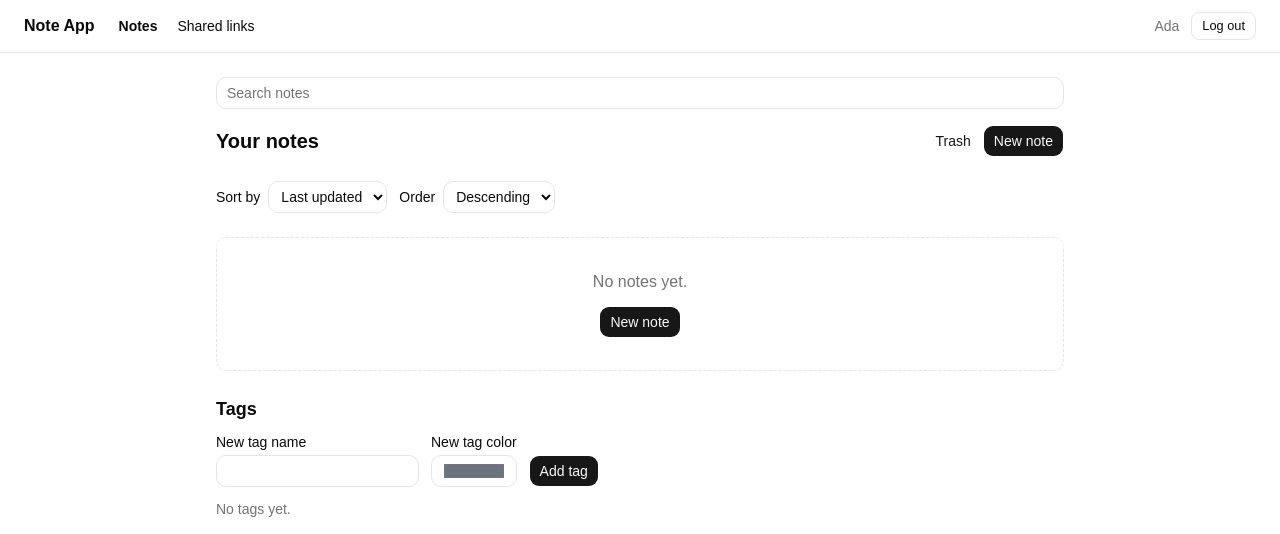
search section › S-AB1013-05: a 400 or 500 shows an error state with retry and operator text is sent plain
The width and height of the screenshot is (1280, 534).
Type "a & !(b:*)" into the search field labelled "Search notes" at (640,93), box [216,77,1064,109]
Wait 300 ms
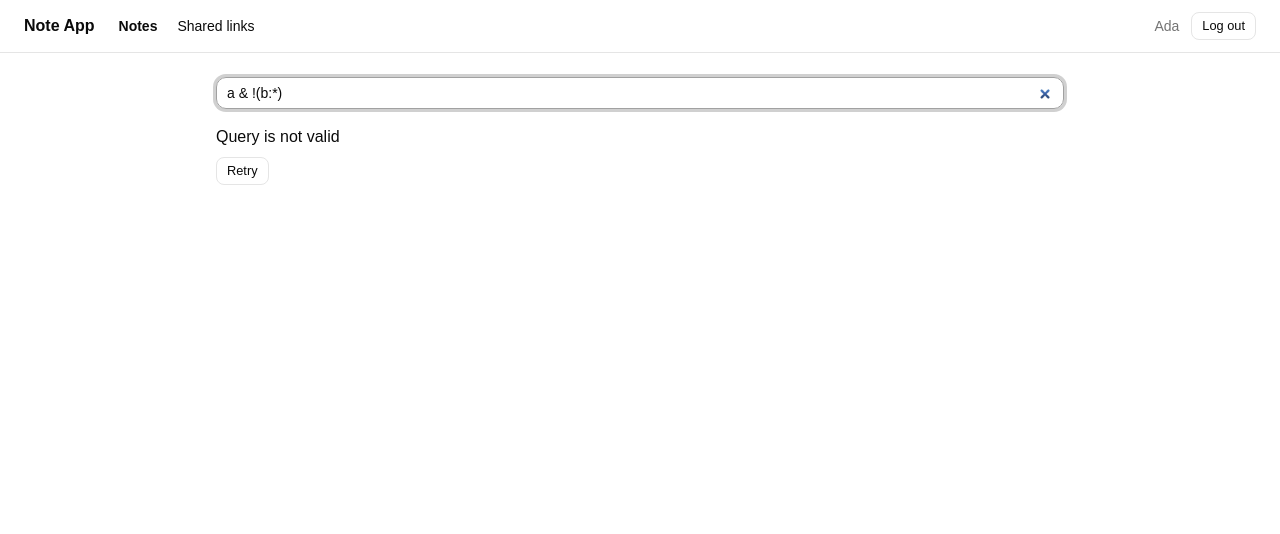
Expected: the message shows "Query is not valid", [216,128,340,145]
Click the button "Retry" at (242,171), box [216,157,269,185]
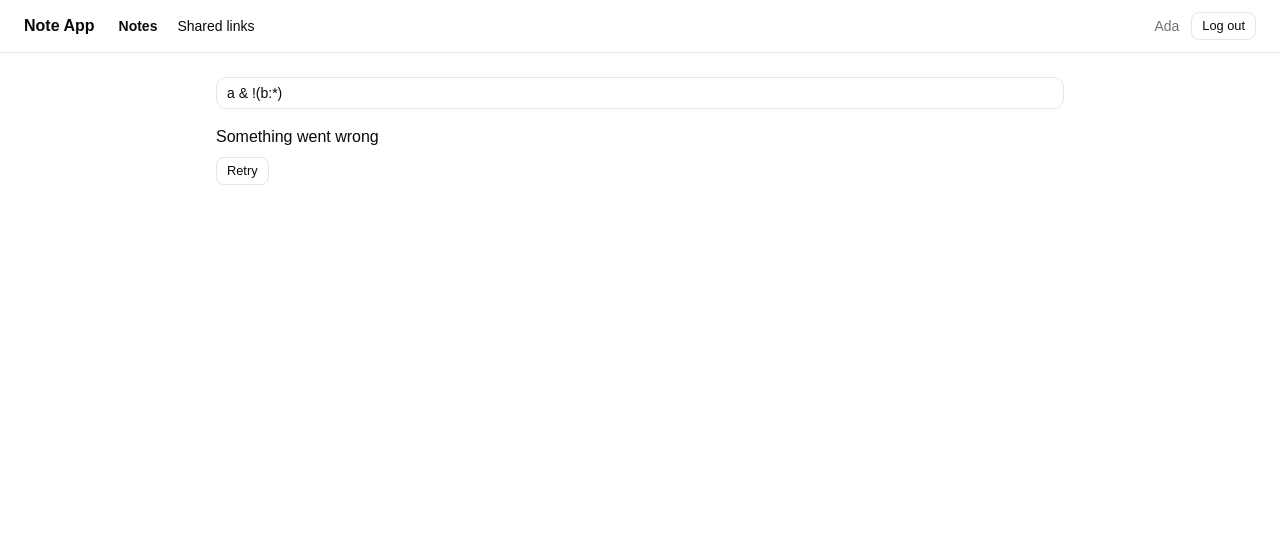
Expected: the text "Something went wrong" is shown, [216,125,379,149]
Click the button "Retry" at (242,171), box [216,157,269,185]
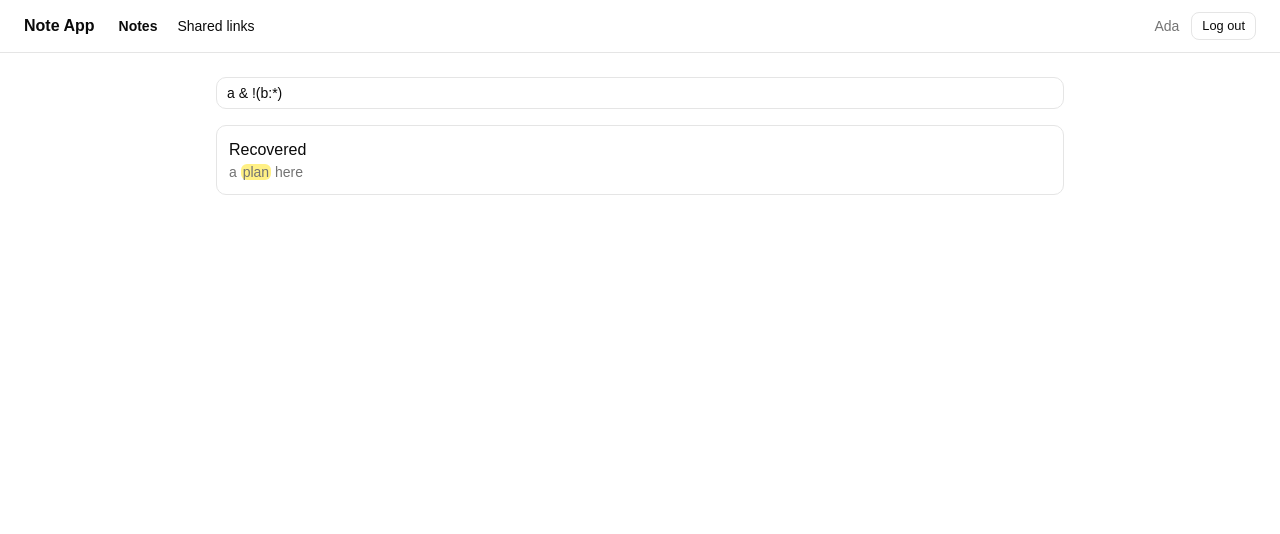
Expected: the text "Recovered" is shown, [229,141,306,158]
Expected: the message "Something went wrong Retry" is gone
